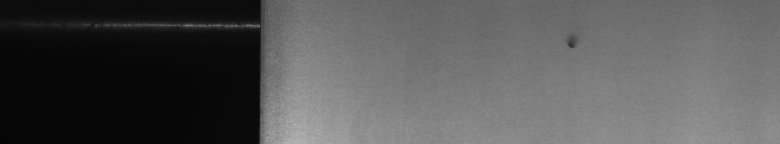fi: (564, 35, 580, 56)
